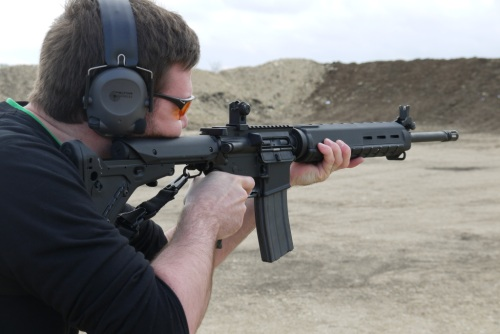Gun: (210, 112, 459, 182)
